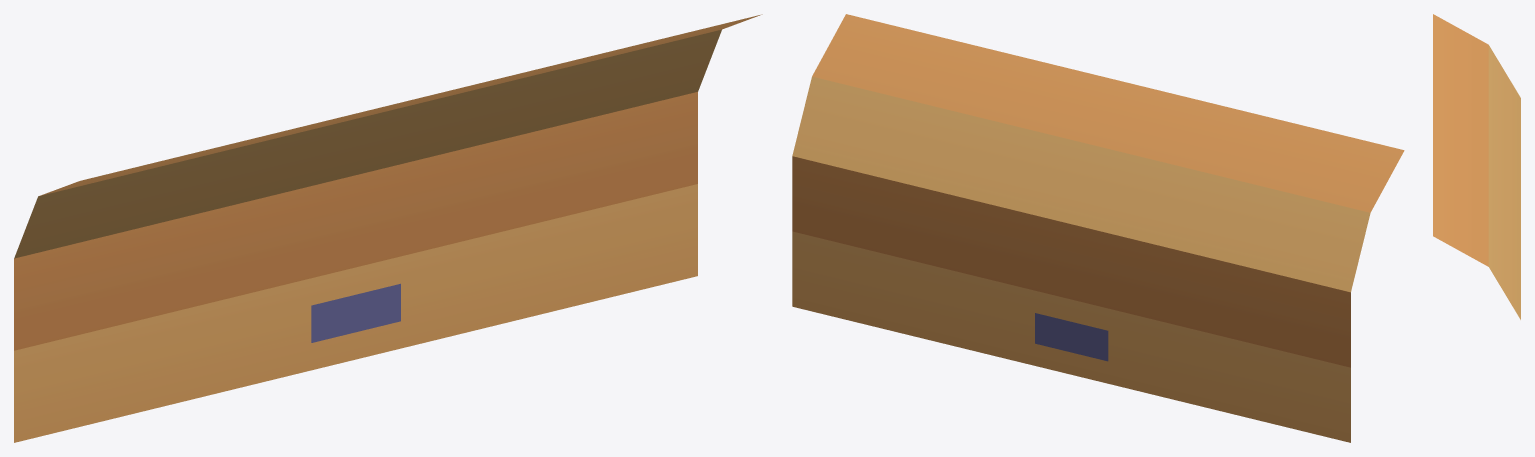
The model's file is door-wide-open.glb.
3 renders of one model, left to right at view 1: azimuth 30°, elevation 25°; view 2: azimuth 150°, elevation 25°; view 3: azimuth 270°, elevation 25°, orthographic. The views are drawn at different scales.
Parts seen in each view (by area): view 1: door-wide-open; view 2: door-wide-open; view 3: door-wide-open.
Boxes of the visible parts, <box> form: door-wide-open: <box>14,14,762,442</box>; door-wide-open: <box>792,14,1404,442</box>; door-wide-open: <box>1433,14,1520,319</box>.
Bounding box in the file's own units: 1.8 × 0.7801 × 0.2999.
Materials: 1 (1 with a texture image).
